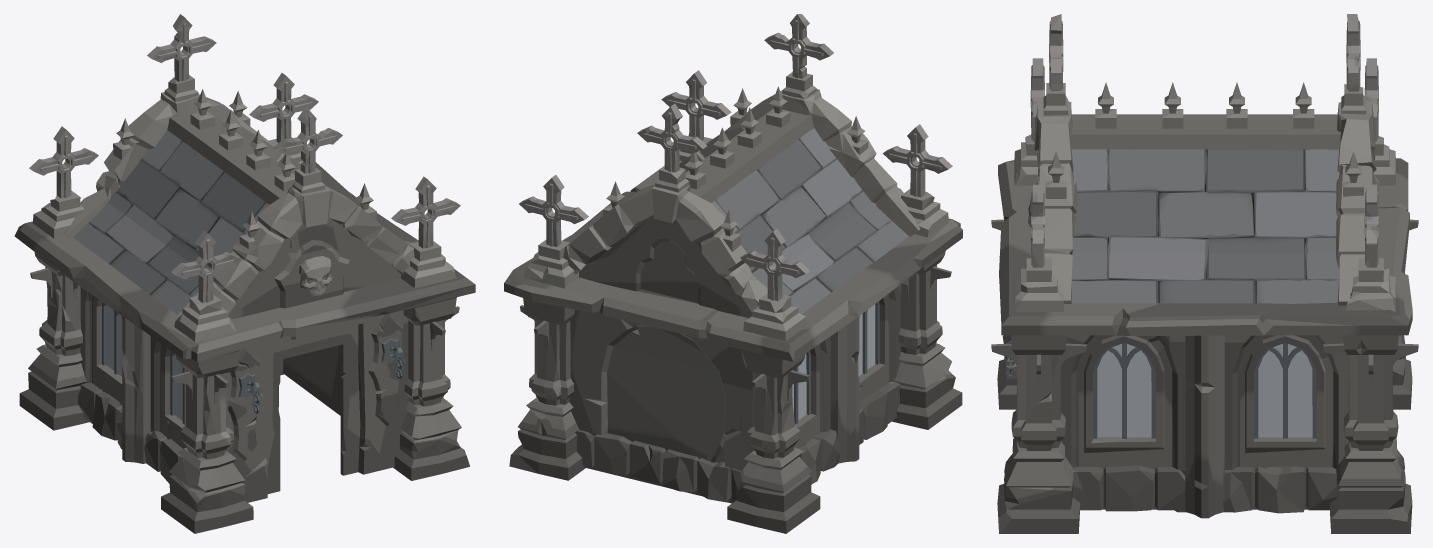
The model's file is crypt_mausoleum_a.gltf.
3 renders of one model, left to right at view 1: azimuth 30°, elevation 25°; view 2: azimuth 150°, elevation 25°; view 3: azimuth 270°, elevation 25°, orthographic. The views are drawn at different scales.
Visible parts, largest first — view 1: crypt_mausoleum_a; view 2: crypt_mausoleum_a; view 3: crypt_mausoleum_a.
Boxes of the visible parts, x1,y1,x2,y2 form: crypt_mausoleum_a: [14, 14, 475, 533]; crypt_mausoleum_a: [504, 14, 962, 533]; crypt_mausoleum_a: [991, 14, 1418, 533].
Size of the model in its own units: 4.72 by 5.77 by 5.07.
Materials: 2 (2 with a texture image).
